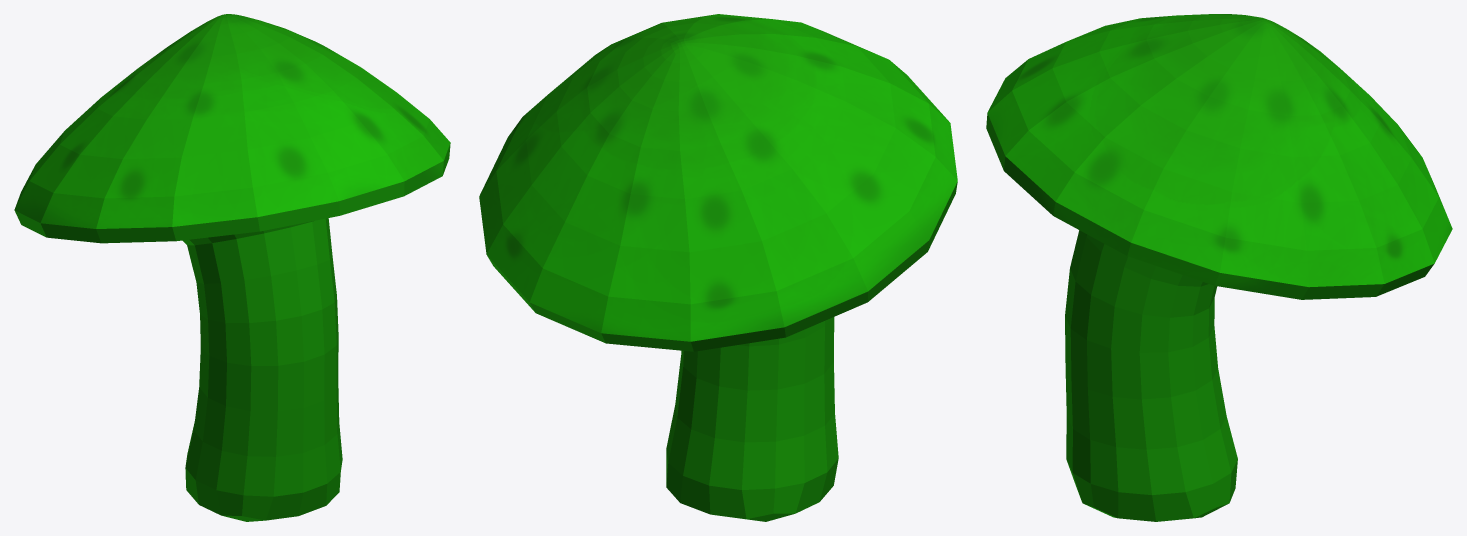
Rendered from hongo_V.obj.
The picture shows the model from 3 angles, left to right: view 1: azimuth 30°, elevation 25°; view 2: azimuth 150°, elevation 25°; view 3: azimuth 270°, elevation 25°; orthographic projection. The views are drawn at different scales.
Visible parts, largest first — view 1: Circle; view 2: Circle; view 3: Circle.
Boxes of the visible parts, left/top/right/bottom form: Circle: left=14, top=14, right=450, bottom=521; Circle: left=479, top=14, right=957, bottom=521; Circle: left=986, top=14, right=1452, bottom=521.
Size of the model in its own units: 0.6831 by 0.7627 by 0.6601.
1 material, 1 textured.
